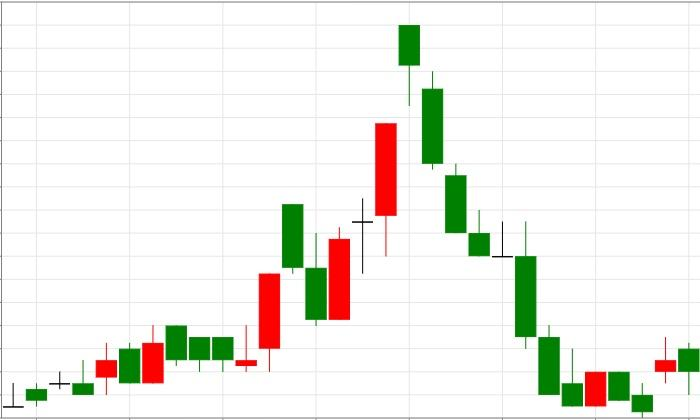inverse_hammer_rise: (398, 23, 583, 407)
three_black_crows_fall: (329, 24, 467, 320)
